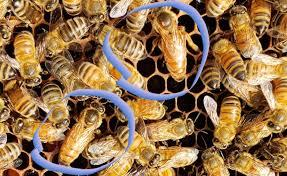Queen-Bee: (56, 103, 114, 170), (149, 10, 195, 83)
worker-bee: (93, 21, 148, 64), (35, 16, 90, 59), (116, 125, 161, 170), (47, 54, 91, 100), (230, 7, 265, 56), (10, 110, 61, 142), (213, 94, 241, 152), (14, 31, 42, 88), (40, 82, 70, 129), (143, 116, 195, 141), (231, 145, 271, 176), (269, 71, 287, 134), (203, 148, 226, 176)
